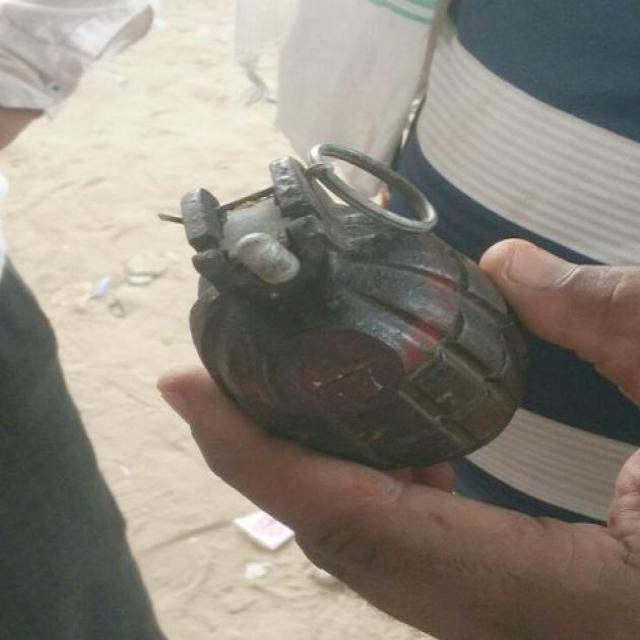grenade: (180, 144, 528, 469)
